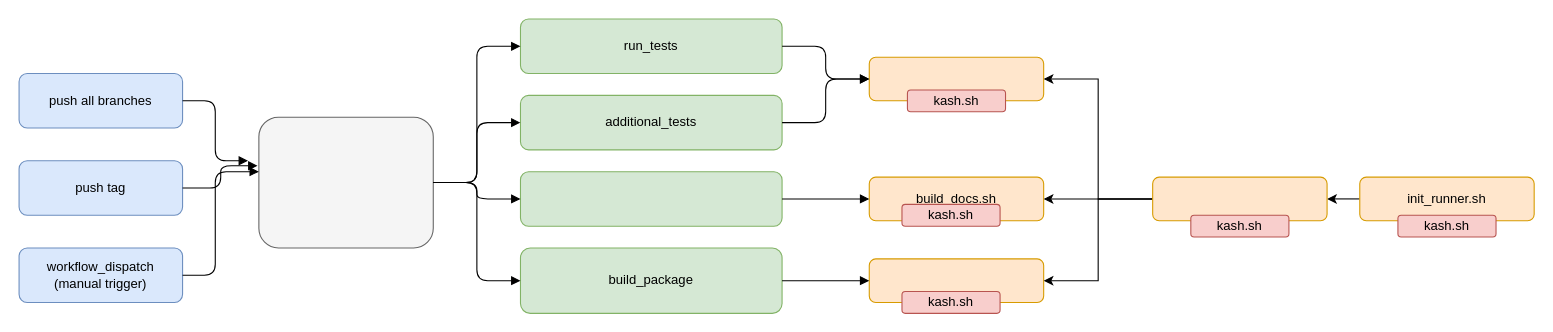
Some shapes in this 1553 by 332 pixel diagram are drawn without their labels. Each missing label, with the box of its shape:
build_docs: (519, 171, 782, 226)
build_package.sh: (868, 258, 1044, 302)
main.yaml: (258, 116, 433, 248)
run_tests.sh: (868, 56, 1044, 101)
setup_workspace.sh: (1152, 176, 1327, 221)
